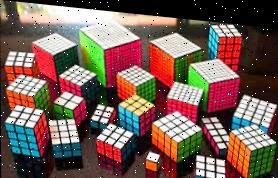cube: (228, 118, 277, 177), (4, 103, 49, 159)
